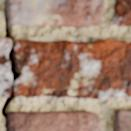brick: (6, 0, 104, 26), (7, 110, 100, 130), (114, 0, 130, 25), (114, 111, 130, 130)
broken_brick: (15, 38, 130, 100), (0, 36, 10, 97)
crack: (0, 2, 21, 128)
